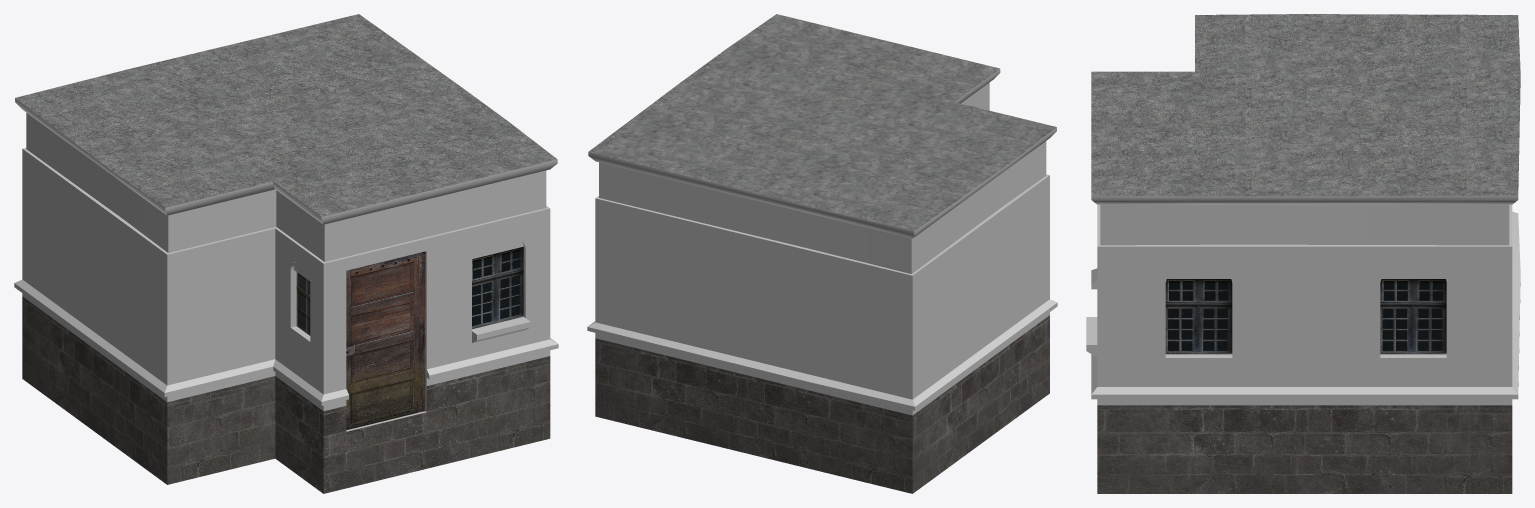
File: Building_Base_01.fbx
The picture shows the model from 3 angles, left to right: view 1: azimuth 30°, elevation 25°; view 2: azimuth 150°, elevation 25°; view 3: azimuth 270°, elevation 25°; orthographic projection. The views are drawn at different scales.
Parts seen in each view (by area): view 1: Building_Base_01; view 2: Building_Base_01; view 3: Building_Base_01.
Boxes of the visible parts, left/top/right/bottom form: Building_Base_01: left=14, top=14, right=558, bottom=493; Building_Base_01: left=587, top=14, right=1057, bottom=493; Building_Base_01: left=1086, top=14, right=1520, bottom=493.
Bounding box in the file's own units: 520 × 400 × 523.
